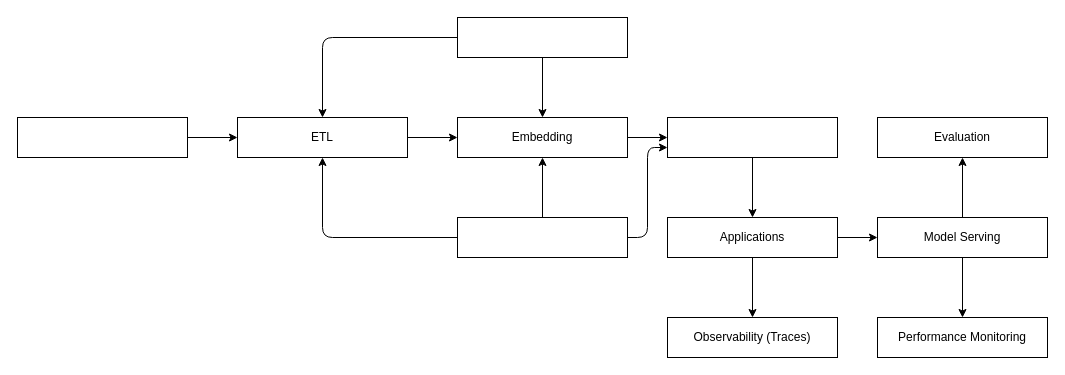
This 1065x375 diagram has some shape labels left out. Here are the shapes that lost their labels. From the top down, the box of each, then its label:
(456, 16, 628, 58): Orchestration
(16, 116, 188, 158): Source Data
(666, 116, 838, 158): (Vector) Database
(456, 216, 628, 258): Infrastructure/Compute
